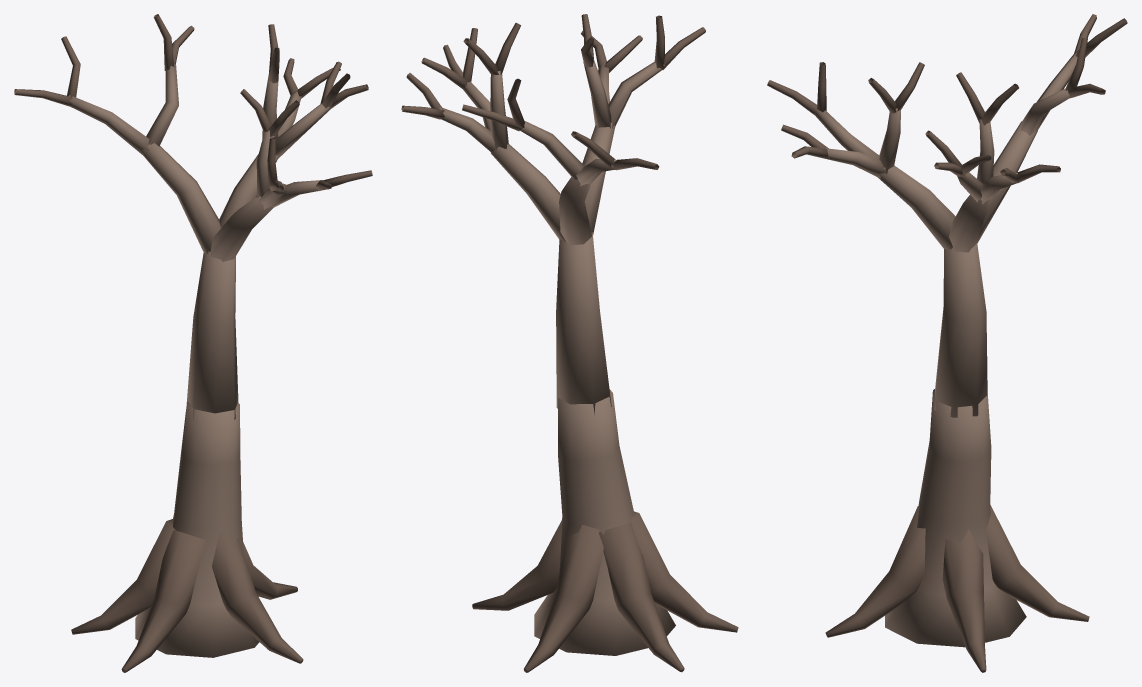
File: TreeDead.fbx
3 views of the same model, side by side, from view 1: azimuth 30°, elevation 25°; view 2: azimuth 150°, elevation 25°; view 3: azimuth 270°, elevation 25° (orthographic). The views are drawn at different scales.
Parts seen in each view (by area): view 1: TreeDead_Mesh; view 2: TreeDead_Mesh; view 3: TreeDead_Mesh.
Boxes of the visible parts, x1,y1,x2,y2 form: TreeDead_Mesh: [14, 14, 372, 672]; TreeDead_Mesh: [401, 14, 738, 672]; TreeDead_Mesh: [767, 14, 1127, 672].
Bounding box in the file's own units: 3.15 × 6 × 3.33.
